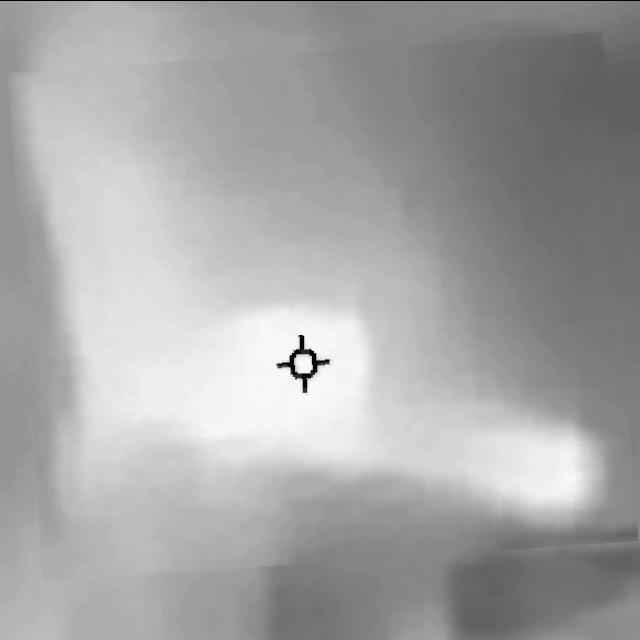Weapon: (16, 40, 630, 571)
